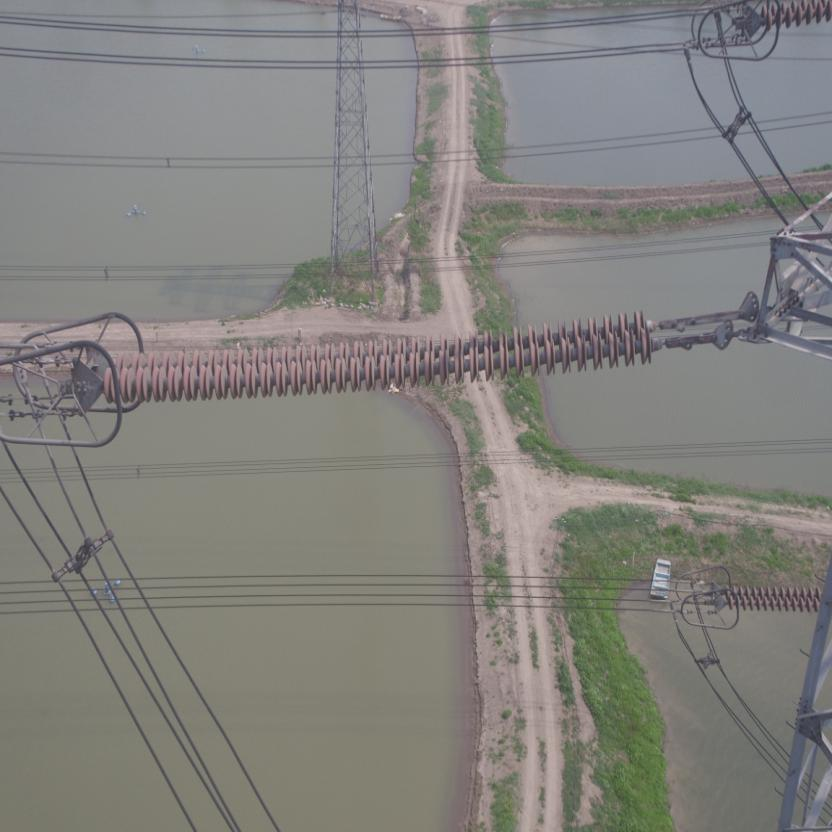insulator: (89, 300, 692, 404)
